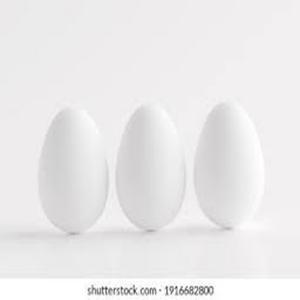Egg: (35, 101, 112, 238), (116, 98, 189, 235), (194, 96, 266, 231)
